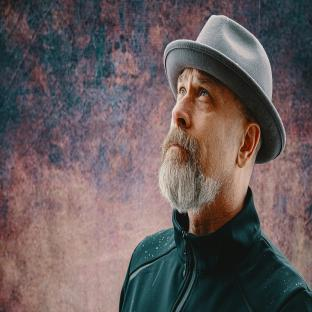Human: (119, 15, 312, 312)
